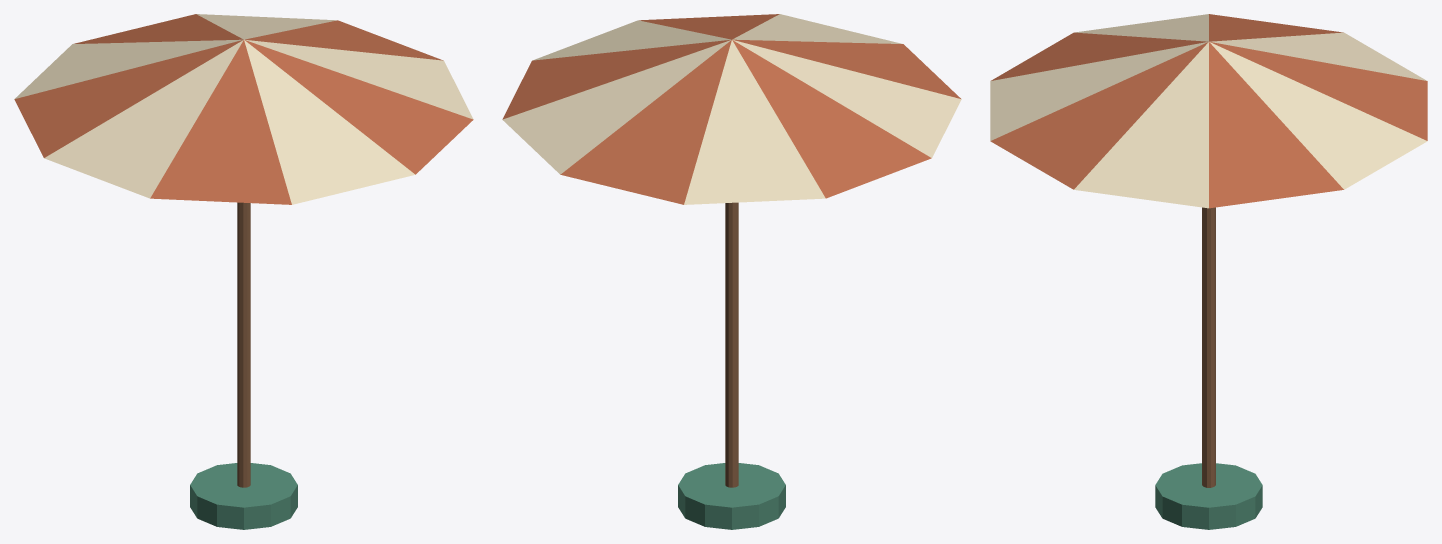
The model's file is tpe5_cafe_parasol.glb.
3 renders of one model, left to right at view 1: azimuth 30°, elevation 25°; view 2: azimuth 150°, elevation 25°; view 3: azimuth 270°, elevation 25°, orthographic.
Parts seen in each view (by area): view 1: tpe5_cafe_parasol__tpe5-street-cinnabar, tpe5_cafe_parasol__tpe5-street-ivory, tpe5_cafe_parasol__tpe5-street-jade, tpe5_cafe_parasol__tpe5-street-walnut; view 2: tpe5_cafe_parasol__tpe5-street-ivory, tpe5_cafe_parasol__tpe5-street-cinnabar, tpe5_cafe_parasol__tpe5-street-jade, tpe5_cafe_parasol__tpe5-street-walnut; view 3: tpe5_cafe_parasol__tpe5-street-cinnabar, tpe5_cafe_parasol__tpe5-street-ivory, tpe5_cafe_parasol__tpe5-street-jade, tpe5_cafe_parasol__tpe5-street-walnut.
Boxes of the visible parts, x1,y1,x2,y2 form: tpe5_cafe_parasol__tpe5-street-cinnabar: (14,14,473,204); tpe5_cafe_parasol__tpe5-street-ivory: (15,14,473,204); tpe5_cafe_parasol__tpe5-street-jade: (190,463,297,529); tpe5_cafe_parasol__tpe5-street-walnut: (237,202,250,487); tpe5_cafe_parasol__tpe5-street-ivory: (502,14,961,204); tpe5_cafe_parasol__tpe5-street-cinnabar: (502,14,960,204); tpe5_cafe_parasol__tpe5-street-jade: (678,463,785,529); tpe5_cafe_parasol__tpe5-street-walnut: (725,202,738,487); tpe5_cafe_parasol__tpe5-street-cinnabar: (990,14,1427,208); tpe5_cafe_parasol__tpe5-street-ivory: (990,14,1427,208); tpe5_cafe_parasol__tpe5-street-jade: (1155,463,1262,529); tpe5_cafe_parasol__tpe5-street-walnut: (1202,207,1215,487).
Size of the model in its own units: 3 by 3.35 by 2.85.
